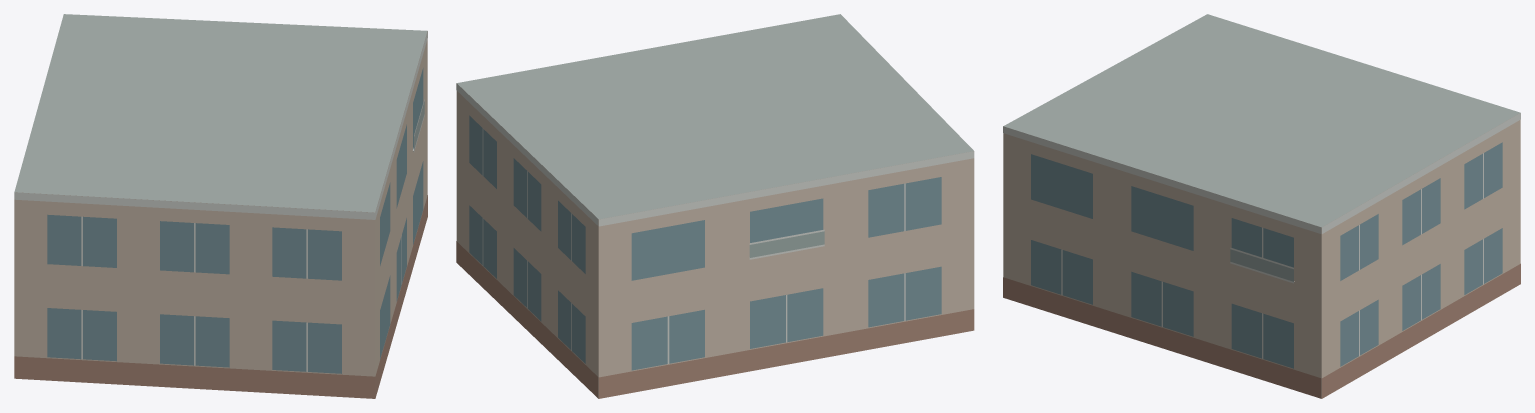
File: survey-upis-32959377.glb
The picture shows the model from 3 angles, left to right: view 1: azimuth 30°, elevation 25°; view 2: azimuth 150°, elevation 25°; view 3: azimuth 270°, elevation 25°; orthographic projection. The views are drawn at different scales.
Parts seen in each view (by area): view 1: survey-upis-32959377.tmp; view 2: survey-upis-32959377.tmp; view 3: survey-upis-32959377.tmp.
Boxes of the visible parts, x1,y1,x2,y2 form: survey-upis-32959377.tmp: [14, 14, 427, 398]; survey-upis-32959377.tmp: [456, 14, 974, 398]; survey-upis-32959377.tmp: [1003, 14, 1520, 398].
Bounding box in the file's own units: 16.3 × 6.1 × 16.7.
